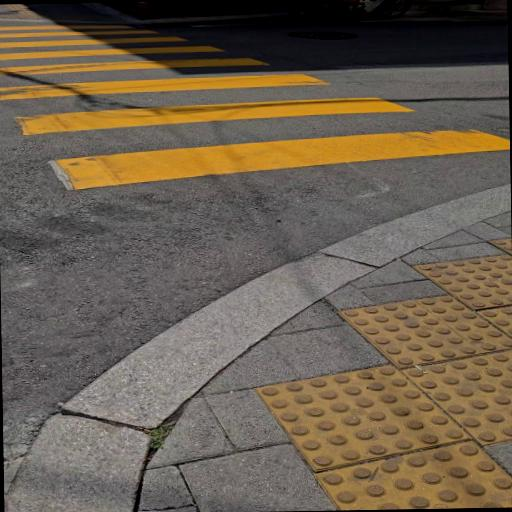yellow-crosswalk: (0, 10, 511, 201)
